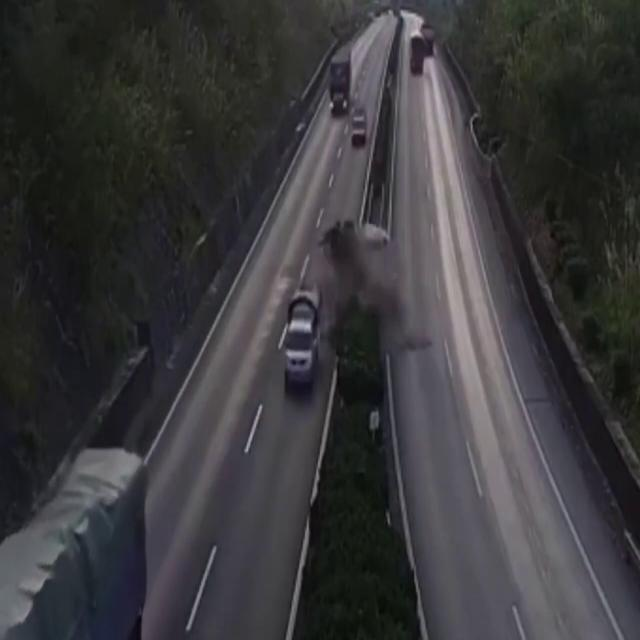normal: (314, 0, 467, 146), (267, 264, 346, 421)
single accident: (317, 206, 410, 314)
